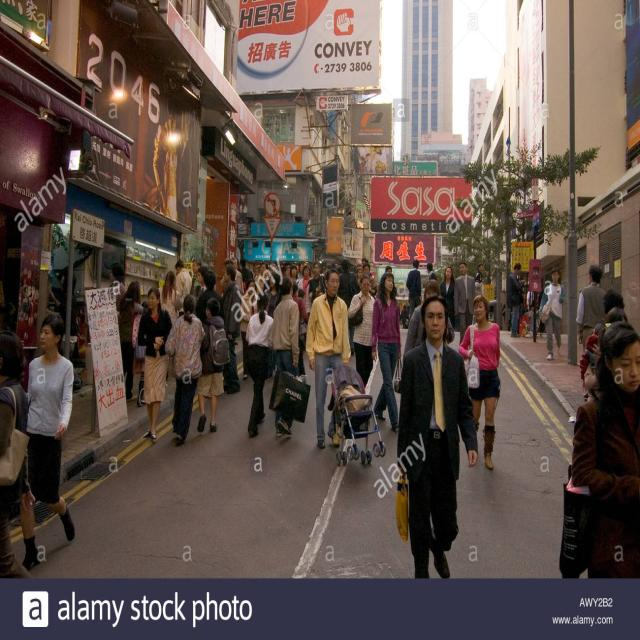body: (394, 295, 480, 578), (570, 319, 640, 577), (16, 309, 78, 576), (305, 267, 351, 450), (457, 293, 503, 471), (0, 331, 29, 580), (162, 292, 206, 447), (148, 92, 195, 228), (136, 286, 174, 440), (370, 271, 403, 435), (270, 277, 302, 438), (244, 292, 279, 439), (194, 296, 228, 435), (579, 288, 628, 381), (576, 263, 608, 403), (47, 269, 79, 393), (115, 279, 146, 405), (404, 278, 454, 353), (238, 253, 325, 295), (347, 274, 376, 389), (218, 264, 242, 396), (539, 267, 567, 361), (340, 257, 399, 299), (337, 258, 361, 355), (133, 300, 151, 406), (240, 278, 258, 382), (454, 262, 476, 347), (291, 281, 310, 377), (506, 260, 527, 338), (227, 256, 245, 346), (196, 270, 225, 324), (158, 269, 184, 327), (438, 266, 458, 330), (173, 259, 193, 319), (405, 258, 422, 322), (109, 263, 126, 325), (191, 265, 209, 316), (298, 265, 314, 317), (308, 260, 326, 304), (188, 258, 204, 304), (341, 224, 364, 256), (220, 256, 236, 298), (288, 263, 302, 288), (237, 191, 248, 213), (426, 262, 438, 282), (474, 272, 484, 296), (325, 255, 340, 271), (474, 262, 485, 282)
